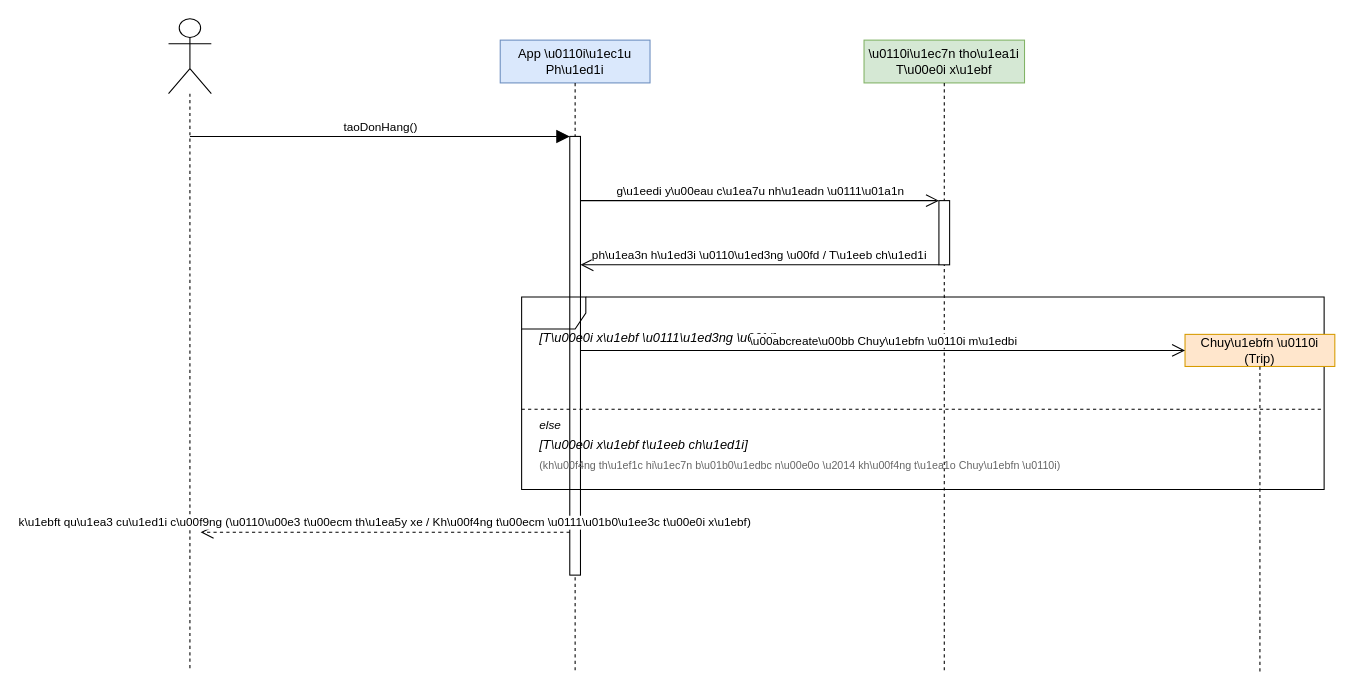
Some shapes in this 1354 by 691 pixel diagram are drawn without their labels. Here are the shapes that lost their labels. From the top down, the box of each, then its label:
(167, 18, 211, 94): Kh\u00e1ch h\u00e0ng
(521, 296, 1324, 490): alt
